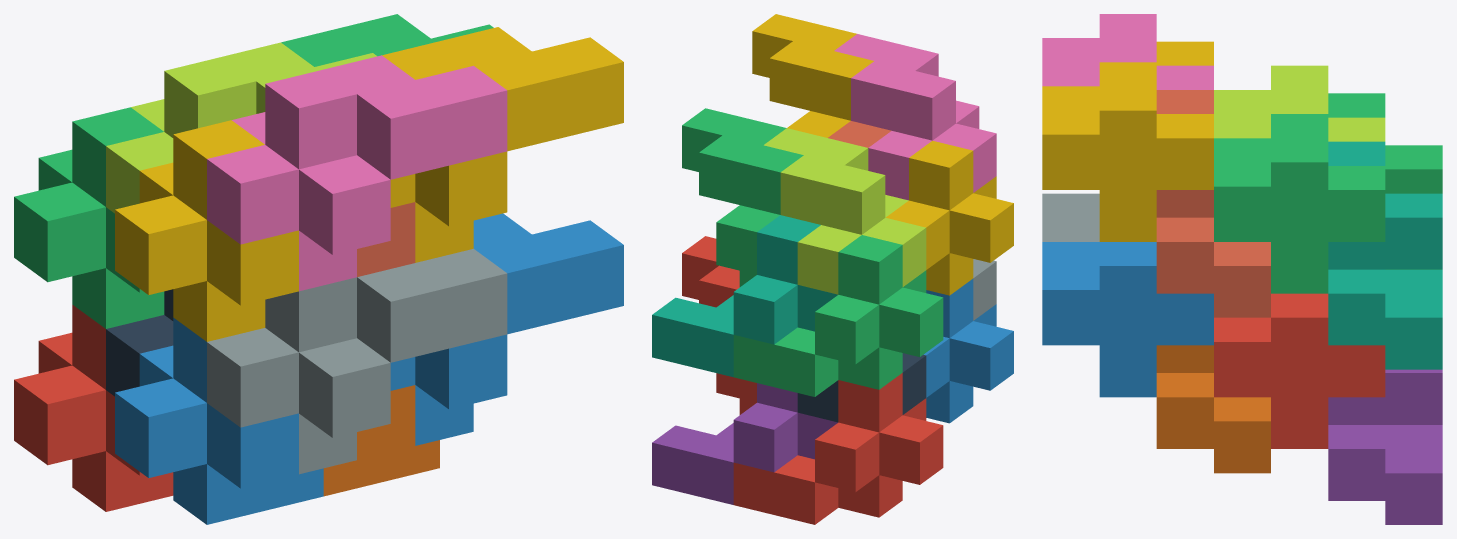
File: tiling.obj
The picture shows the model from 3 angles, left to right: view 1: azimuth 30°, elevation 25°; view 2: azimuth 150°, elevation 25°; view 3: azimuth 270°, elevation 25°; orthographic projection. The views are drawn at different scales.
Visible parts, largest first — view 1: copy_2_domain_4, copy_2_domain_2, copy_2_domain_8, copy_1_domain_4, copy_1_domain_2, copy_2_domain_6, copy_1_domain_3, copy_1_domain_1, copy_2_domain_3, copy_1_domain_6, copy_2_domain_7, copy_2_domain_1 (+1 smaller); view 2: copy_1_domain_3, copy_1_domain_1, copy_2_domain_3, copy_2_domain_4, copy_1_domain_7, copy_2_domain_7, copy_1_domain_4, copy_1_domain_5, copy_2_domain_8, copy_1_domain_2, copy_2_domain_5, copy_2_domain_1 (+2 smaller); view 3: copy_2_domain_7, copy_2_domain_8, copy_2_domain_6, copy_1_domain_7, copy_2_domain_5, copy_1_domain_5, copy_1_domain_8, copy_1_domain_6, copy_2_domain_4, copy_2_domain_3, copy_1_domain_3, copy_2_domain_2 (+1 smaller).
Boxes of the visible parts, bbox=[...] form: copy_2_domain_4: bbox=[207, 55, 507, 291]; copy_2_domain_2: bbox=[207, 248, 507, 474]; copy_2_domain_8: bbox=[382, 27, 623, 262]; copy_1_domain_4: bbox=[115, 120, 298, 341]; copy_1_domain_2: bbox=[115, 317, 323, 524]; copy_2_domain_6: bbox=[390, 213, 623, 445]; copy_1_domain_3: bbox=[14, 107, 164, 328]; copy_1_domain_1: bbox=[14, 305, 173, 511]; copy_2_domain_3: bbox=[106, 42, 376, 213]; copy_1_domain_6: bbox=[323, 385, 439, 496]; copy_2_domain_7: bbox=[281, 14, 493, 66]; copy_2_domain_1: bbox=[106, 289, 173, 396]; copy_1_domain_3: bbox=[733, 235, 943, 396]; copy_1_domain_1: bbox=[733, 373, 943, 524]; copy_2_domain_3: bbox=[764, 128, 926, 294]; copy_2_domain_4: bbox=[834, 34, 996, 200]; copy_1_domain_7: bbox=[652, 215, 837, 377]; copy_2_domain_7: bbox=[682, 108, 803, 286]; copy_1_domain_4: bbox=[886, 140, 1013, 295]; copy_1_domain_5: bbox=[652, 383, 837, 504]; copy_2_domain_8: bbox=[752, 14, 873, 137]; copy_1_domain_2: bbox=[923, 278, 1013, 423]; copy_2_domain_5: bbox=[682, 236, 756, 414]; copy_2_domain_1: bbox=[797, 353, 926, 422]; copy_2_domain_7: bbox=[1214, 114, 1385, 293]; copy_2_domain_8: bbox=[1042, 62, 1213, 241]; copy_2_domain_6: bbox=[1042, 242, 1213, 397]; copy_1_domain_7: bbox=[1328, 141, 1442, 369]; copy_2_domain_5: bbox=[1214, 293, 1385, 448]; copy_1_domain_5: bbox=[1328, 369, 1442, 524]; copy_1_domain_8: bbox=[1156, 90, 1270, 317]; copy_1_domain_6: bbox=[1156, 345, 1270, 473]; copy_2_domain_4: bbox=[1042, 14, 1213, 89]; copy_2_domain_3: bbox=[1214, 65, 1385, 141]; copy_1_domain_3: bbox=[1328, 93, 1442, 269]; copy_2_domain_2: bbox=[1042, 193, 1099, 241].
Size of the model in its own units: 7 by 8 by 7.
